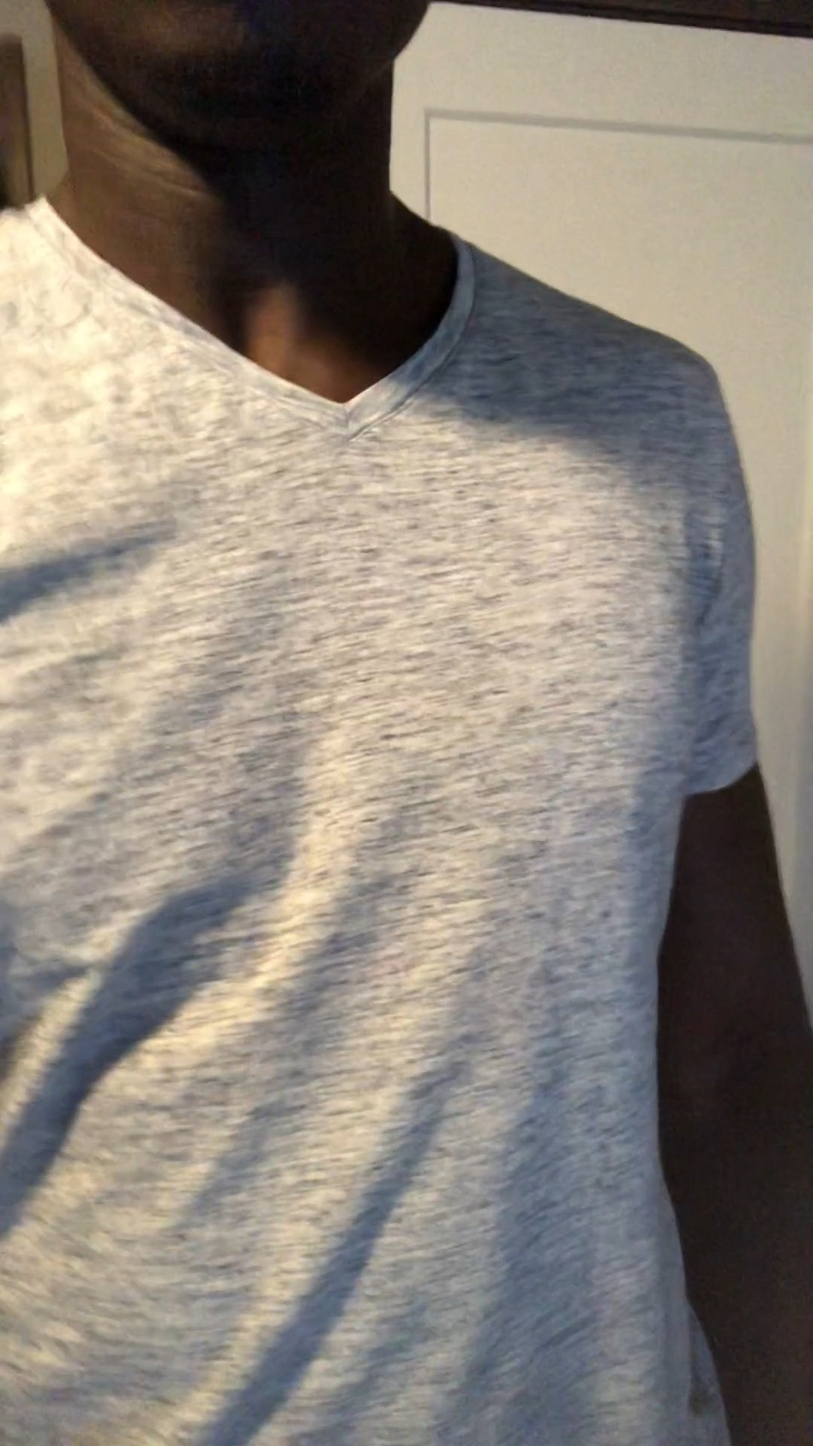face: (31, 0, 437, 109)
